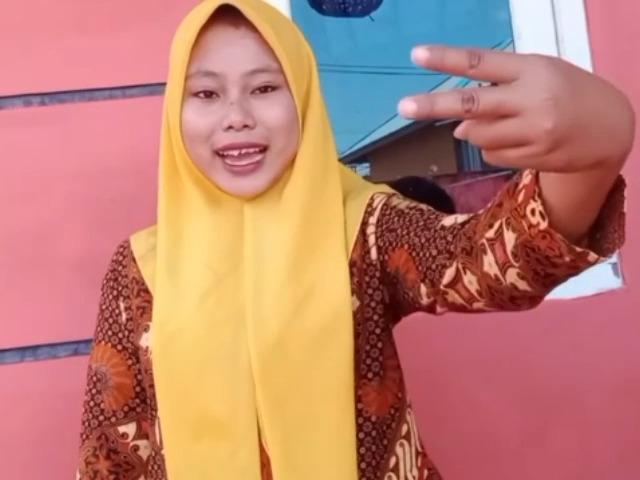H: (394, 45, 640, 175)
